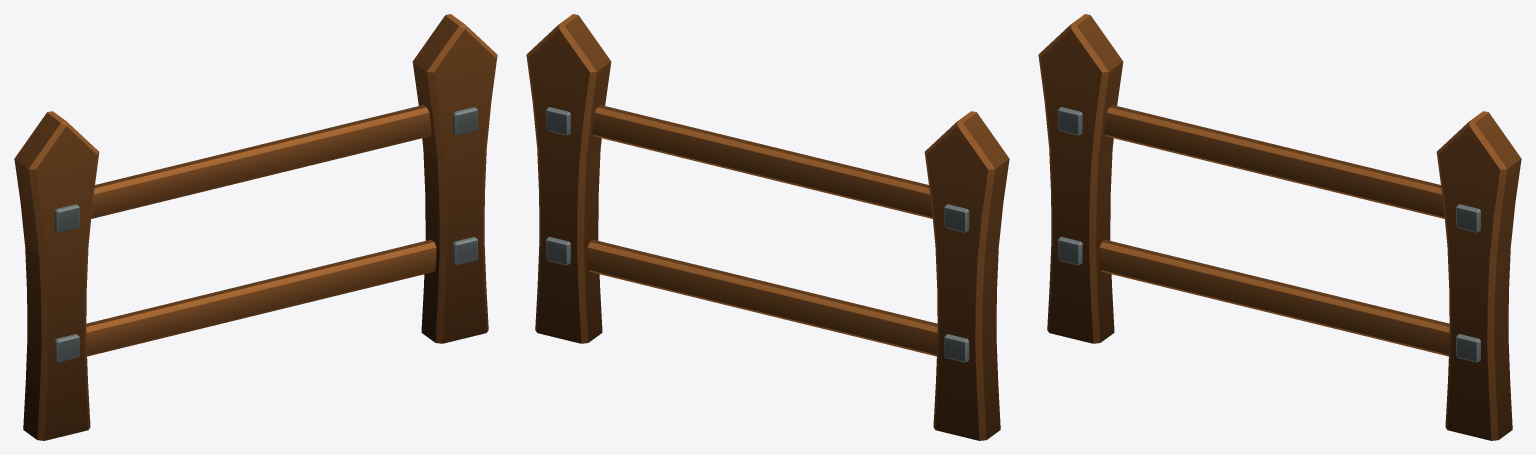
File: Fence-1-1.fbx
The picture shows the model from 3 angles, left to right: view 1: azimuth 30°, elevation 25°; view 2: azimuth 150°, elevation 25°; view 3: azimuth 330°, elevation 25°; orthographic projection.
Visible parts, largest first — view 1: Fence-1-1; view 2: Fence-1-1; view 3: Fence-1-1.
Boxes of the visible parts, <box> form: Fence-1-1: <box>14,14,497,440</box>; Fence-1-1: <box>526,14,1009,440</box>; Fence-1-1: <box>1038,14,1521,440</box>.
Size of the model in its own units: 261 by 165 by 23.63.
